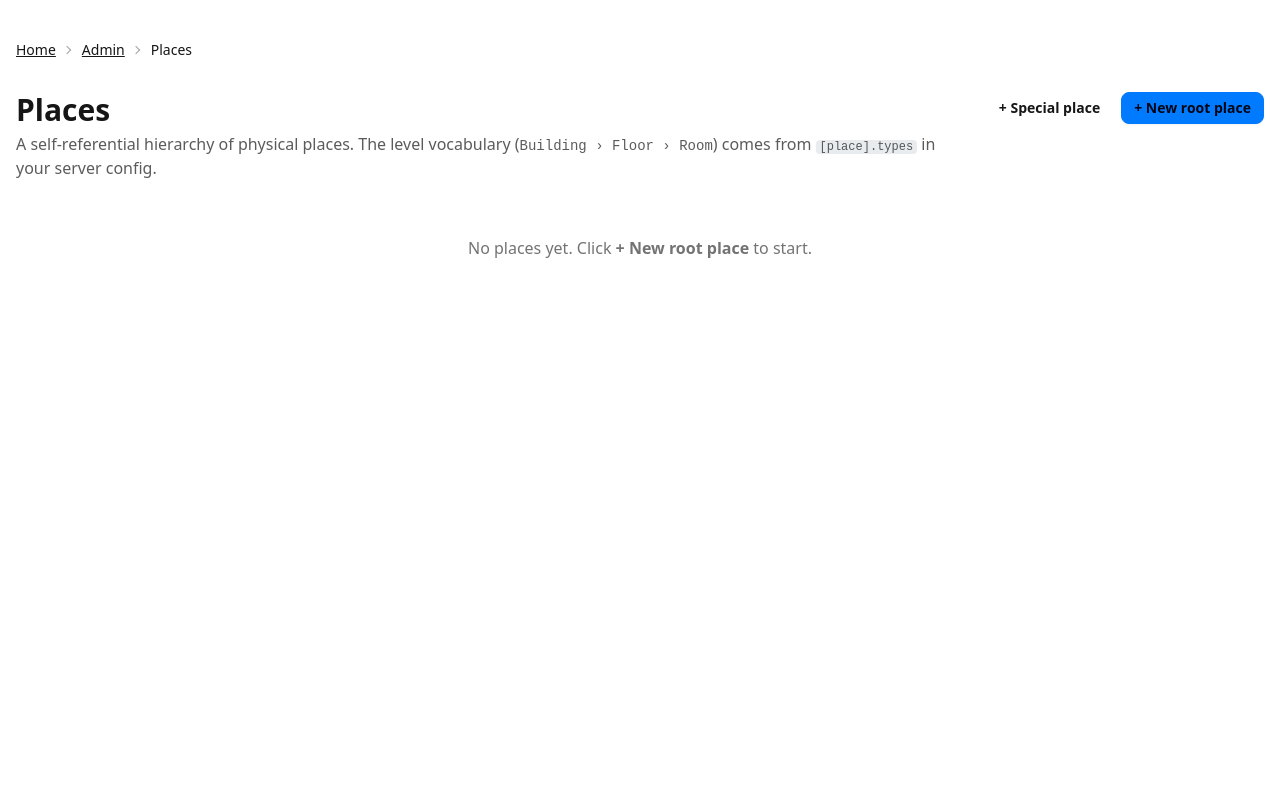
Test: saving › reloads both the config and the list after a save
The image size is (1280, 800).
Click the button "+ New root place": click(1193, 108) x1=1121 y1=92 x2=1264 y2=124
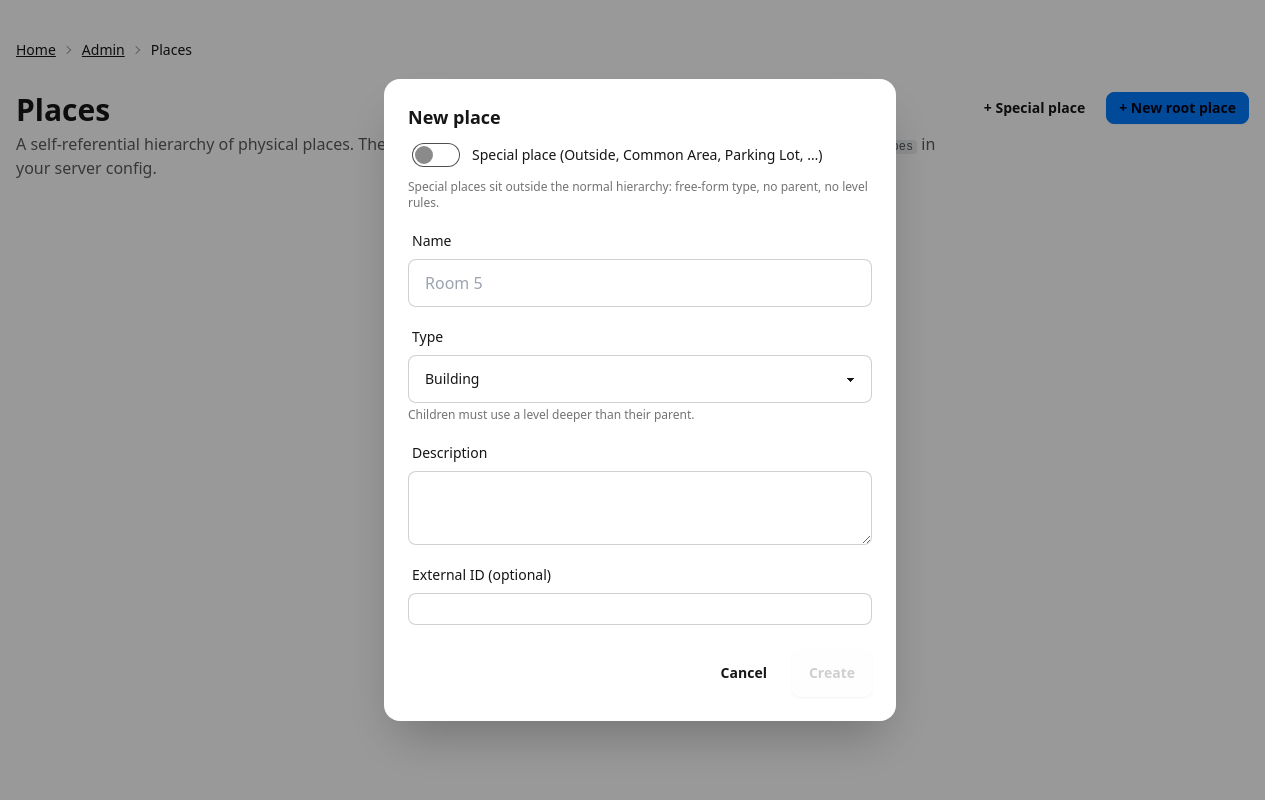
In the field with placeholder "Room 5": (640, 283) x1=408 y1=259 x2=872 y2=307, type "Main Building"
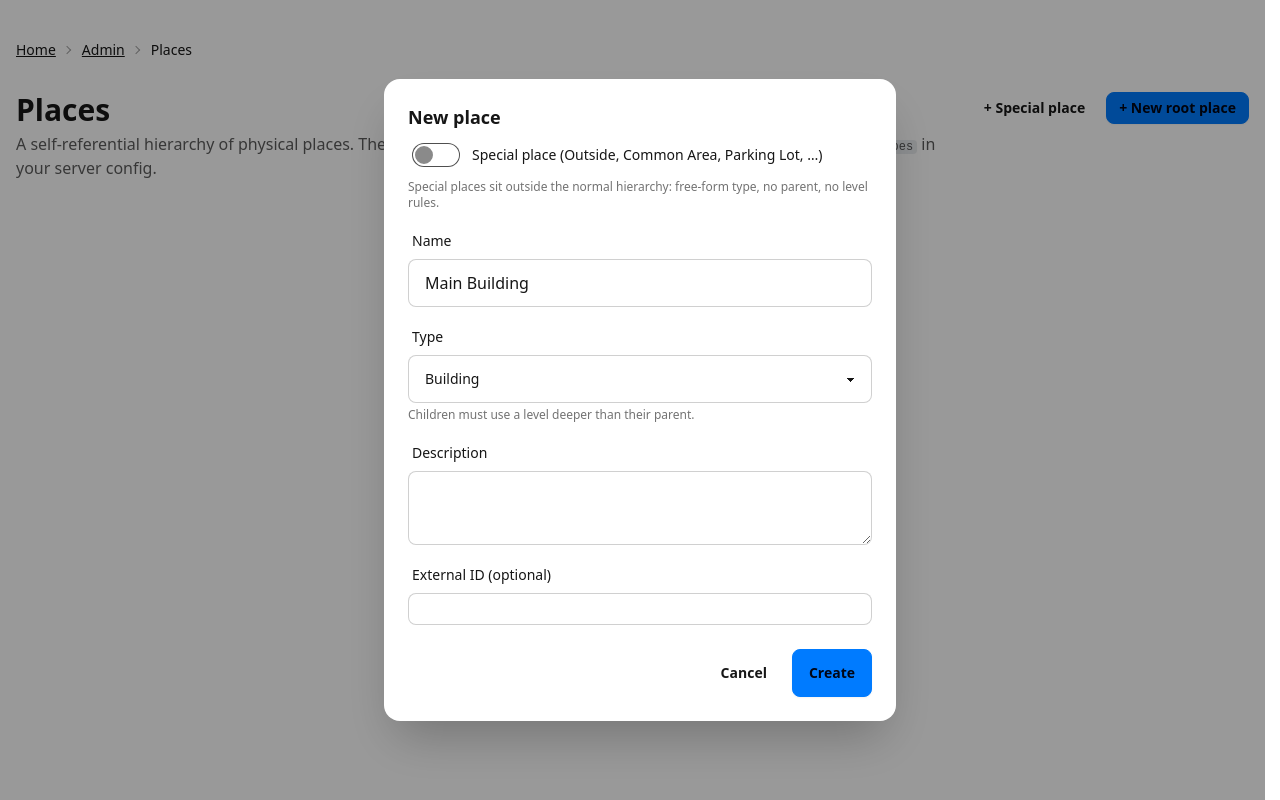
Click the button "Create": click(832, 673) x1=792 y1=649 x2=872 y2=697
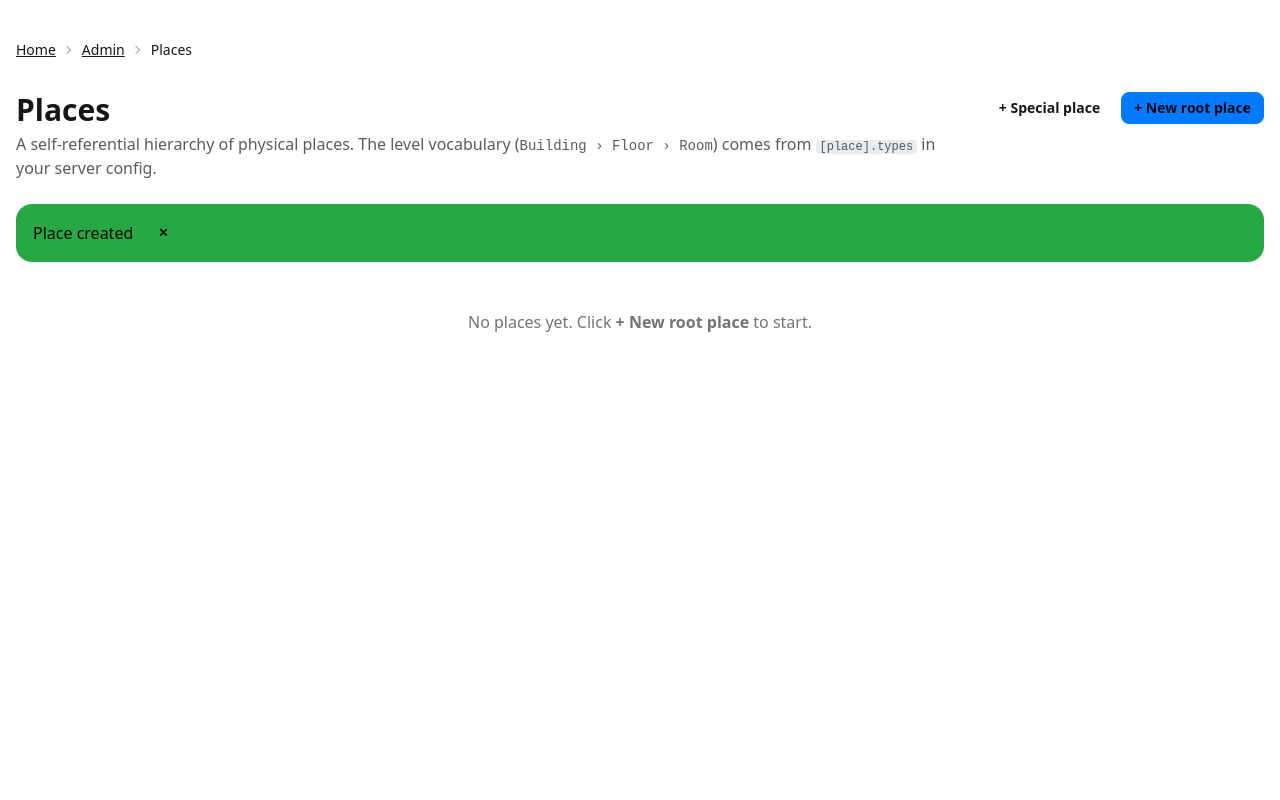
Check: the element with class "alert-success" shows "Place created", box x1=33 y1=222 x2=133 y2=244
